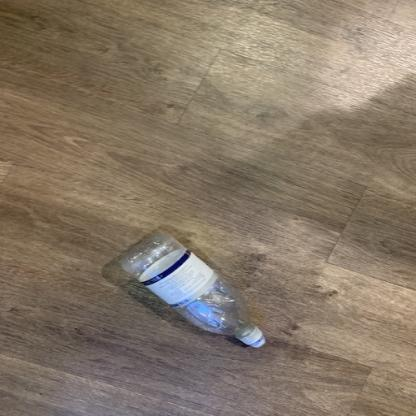trash: (121, 230, 270, 352)
